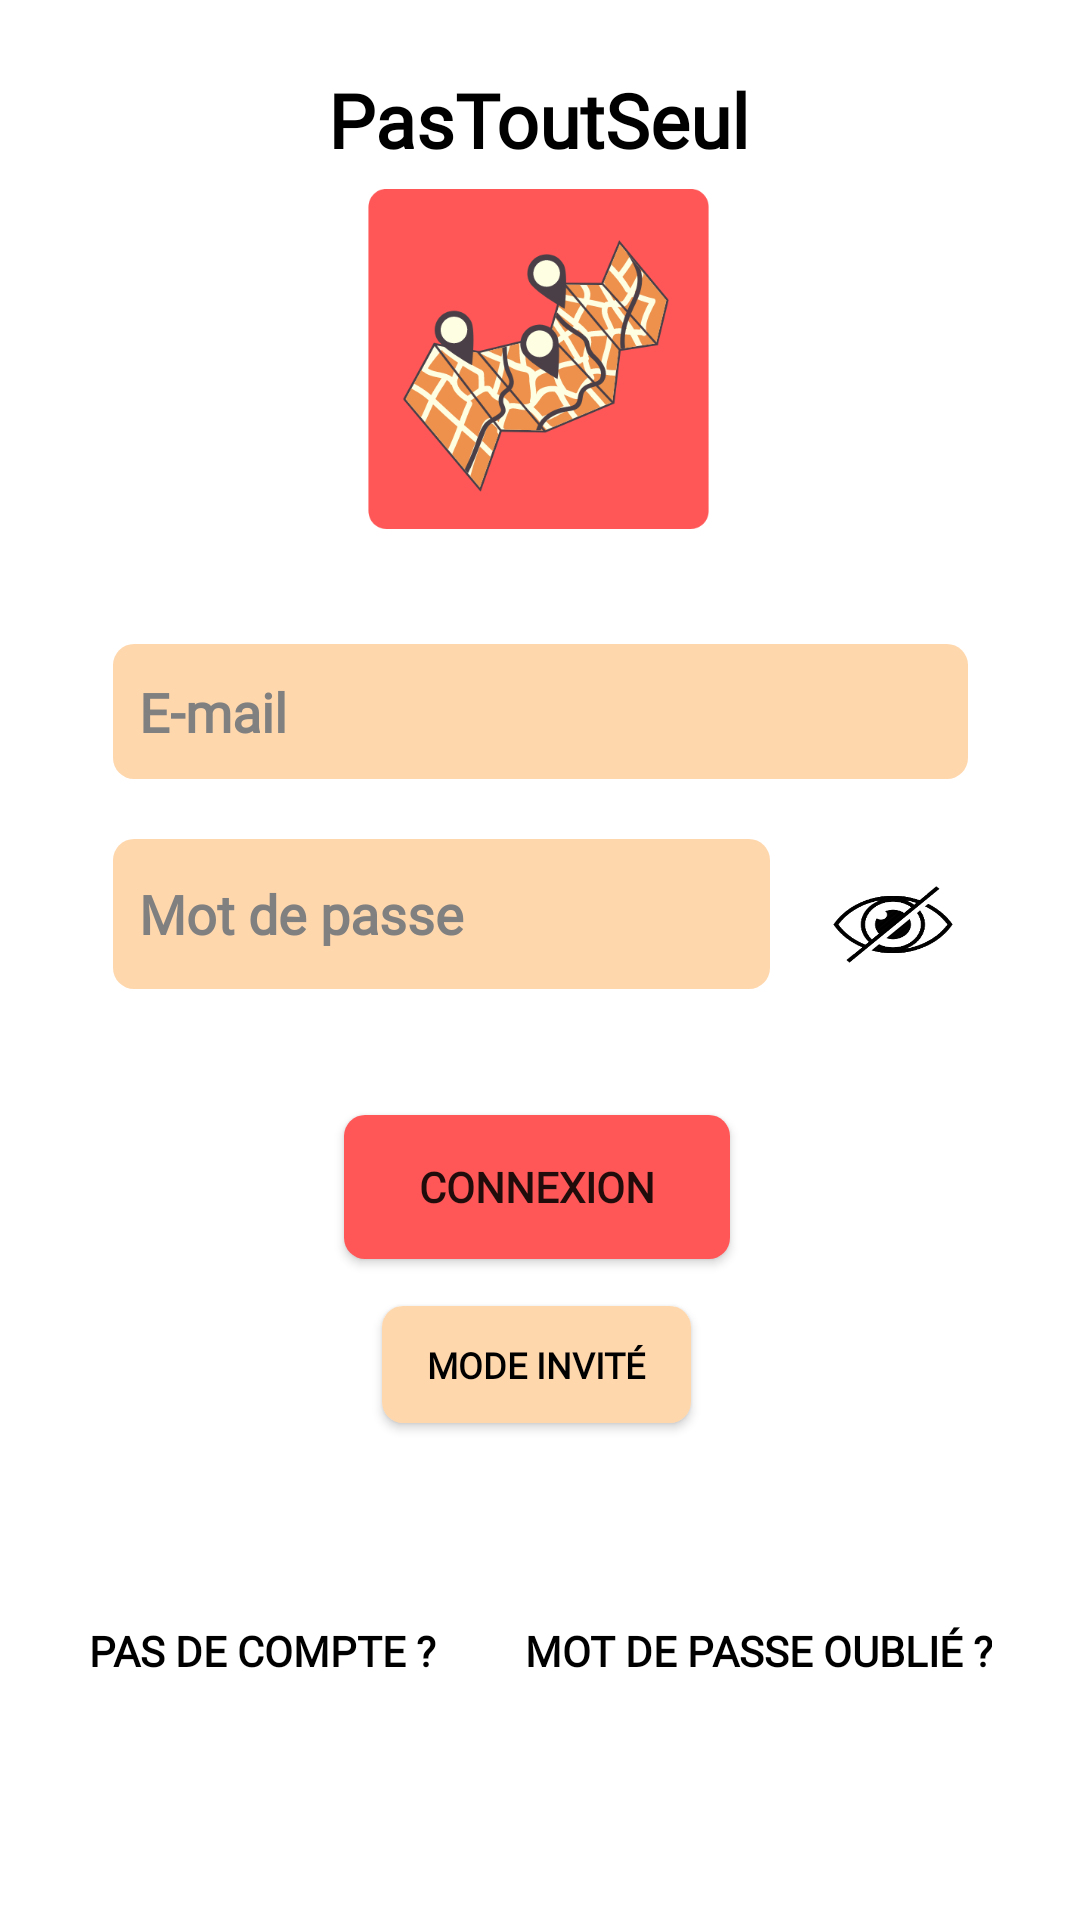

Named icons in this screenshot (1080×1920) and their centers, point (x, y):
cache: point (893, 924)
